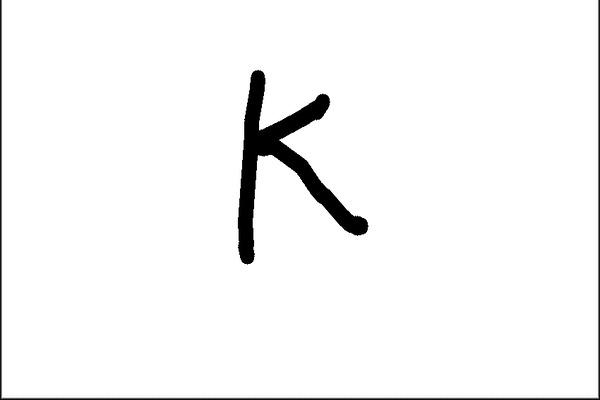K: (229, 65, 377, 273)
